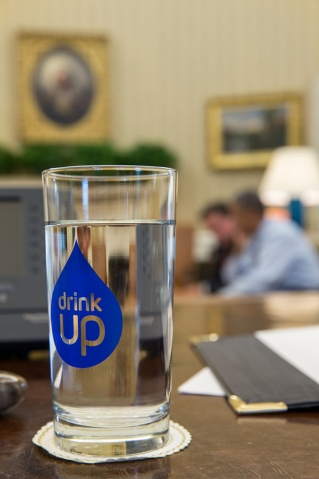glass of water: (35, 153, 185, 456)
